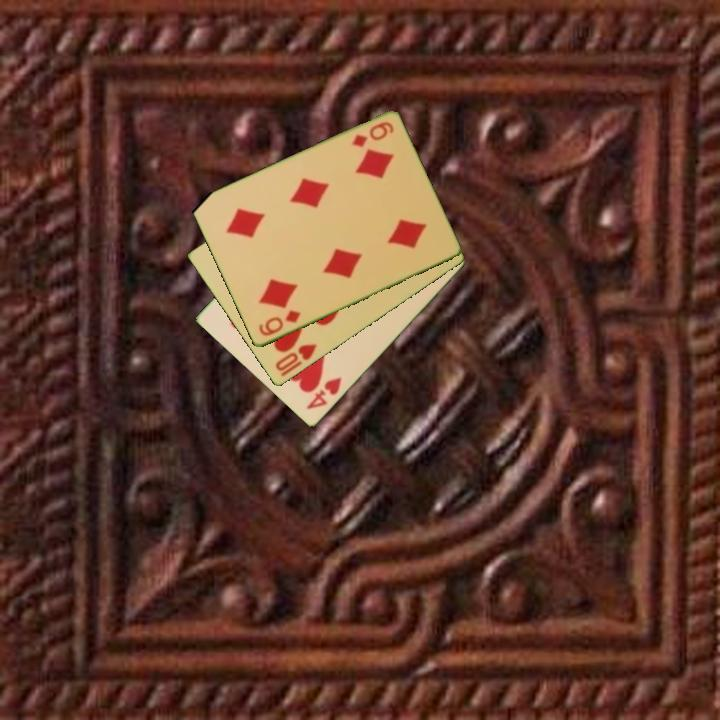10h: (272, 340, 320, 380)
4h: (303, 374, 344, 413)
6d: (348, 118, 397, 150), (255, 307, 303, 339)
